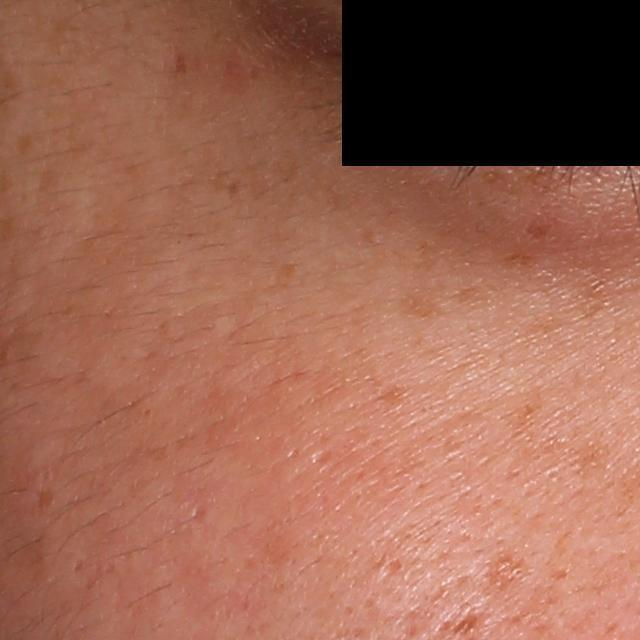melasma: (405, 282, 449, 319), (273, 259, 302, 290), (32, 487, 57, 513), (224, 176, 242, 201)
